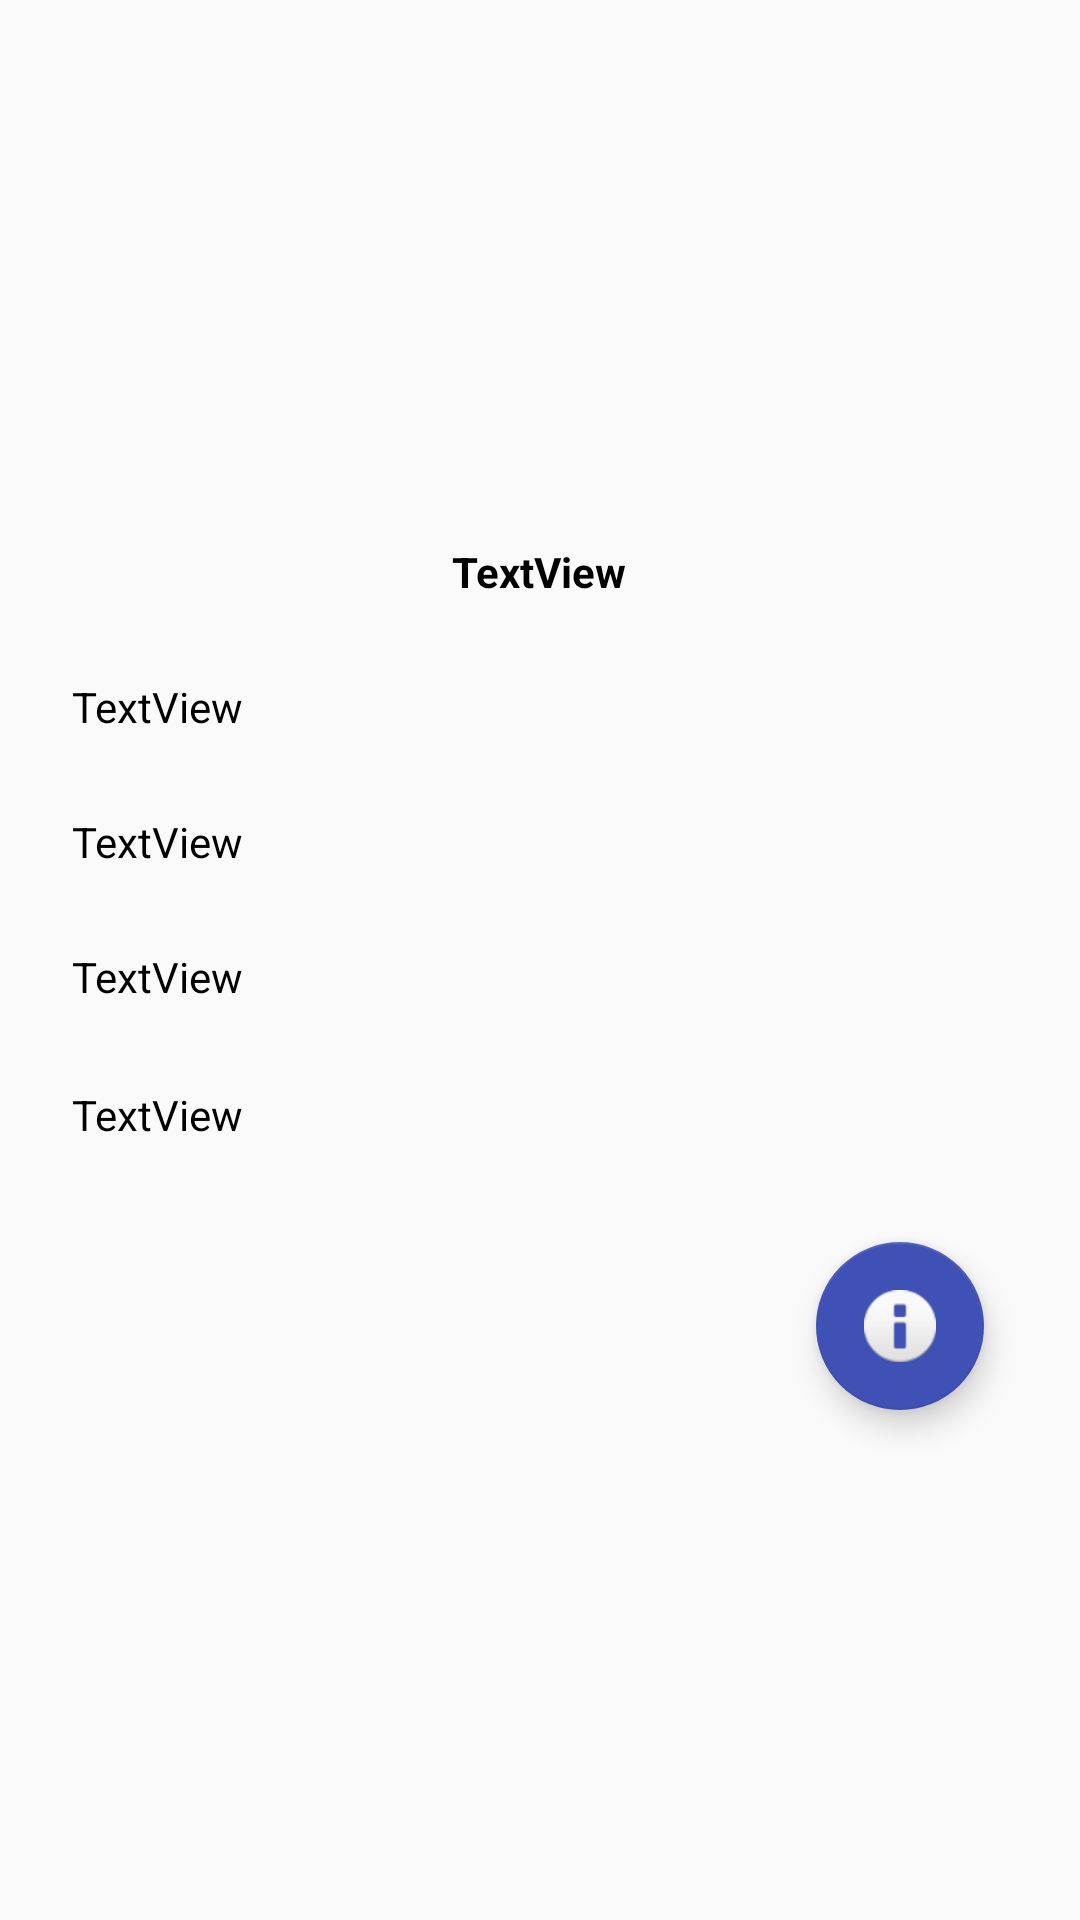

Icon bounding boxes for this 1080px×1920px phone screenshot, format bbox(x1, y1, x2, y2):
info: bbox(816, 1242, 984, 1410)
